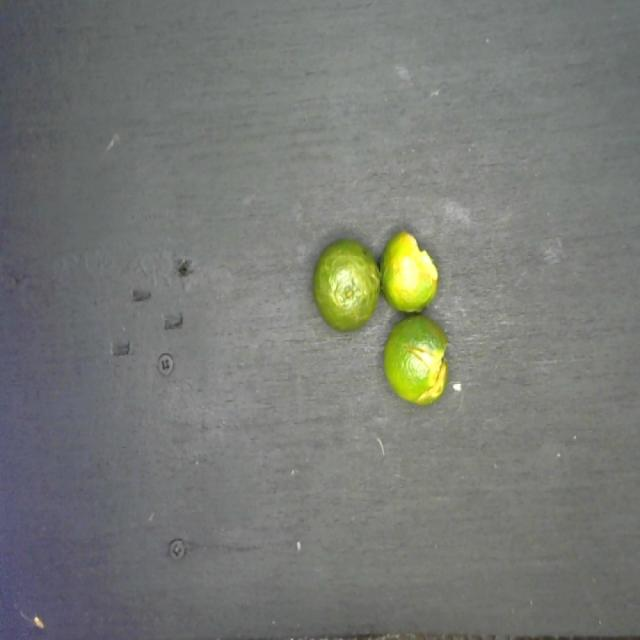biodegradable: (303, 218, 454, 410)
